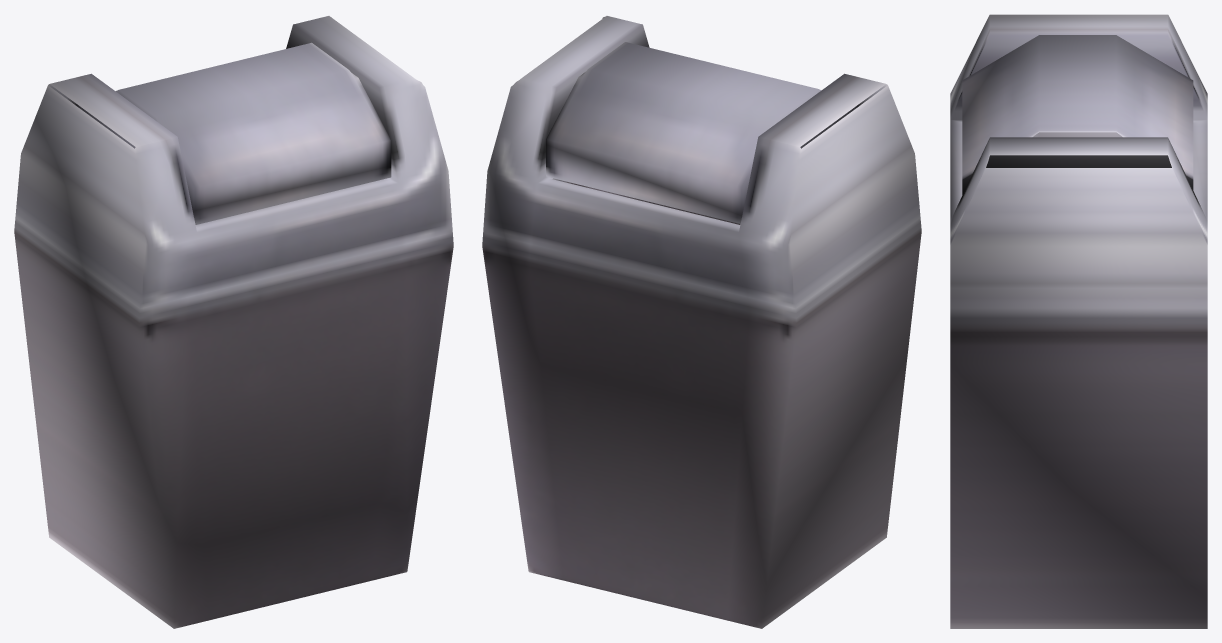
File: rubbish_bin.FBX
The picture shows the model from 3 angles, left to right: view 1: azimuth 30°, elevation 25°; view 2: azimuth 150°, elevation 25°; view 3: azimuth 270°, elevation 25°; orthographic projection. The views are drawn at different scales.
Parts seen in each view (by area): view 1: rubbish_bin; view 2: rubbish_bin; view 3: rubbish_bin.
Boxes of the visible parts, x1,y1,x2,y2 form: rubbish_bin: (14, 16, 453, 628); rubbish_bin: (482, 16, 921, 628); rubbish_bin: (950, 14, 1207, 628).
Bounding box in the file's own units: 35.02 × 50.41 × 24.07.
